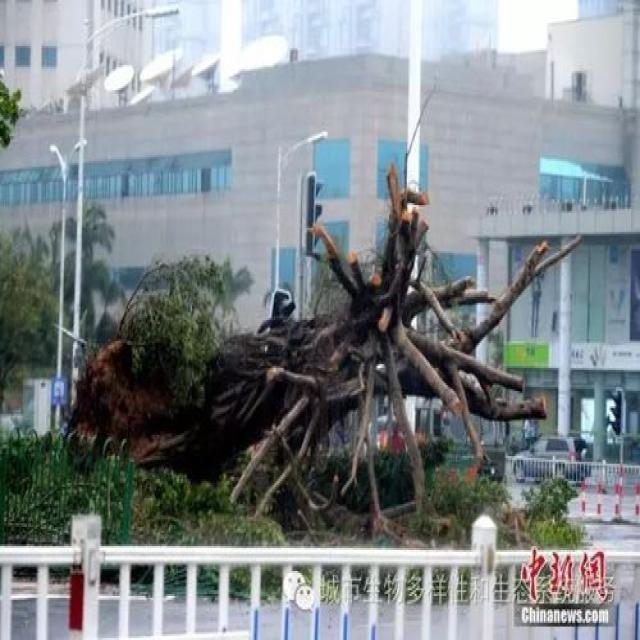fallen_object: (84, 149, 586, 496)
